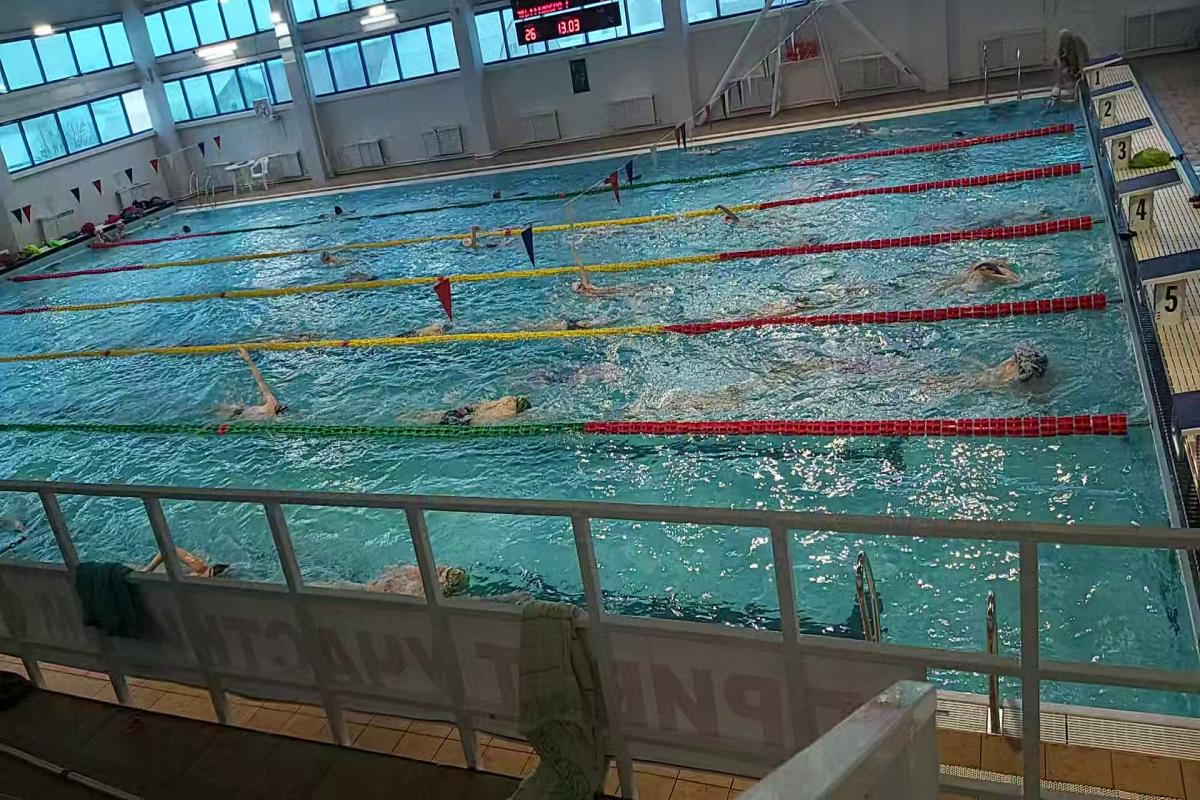swimmer: (403, 373, 541, 426), (317, 560, 507, 594), (962, 333, 1058, 394), (223, 354, 298, 426), (560, 248, 659, 298), (132, 537, 248, 579), (958, 250, 1038, 294), (520, 309, 610, 334), (392, 318, 466, 338), (709, 200, 758, 230), (456, 222, 503, 250), (310, 245, 358, 262)
